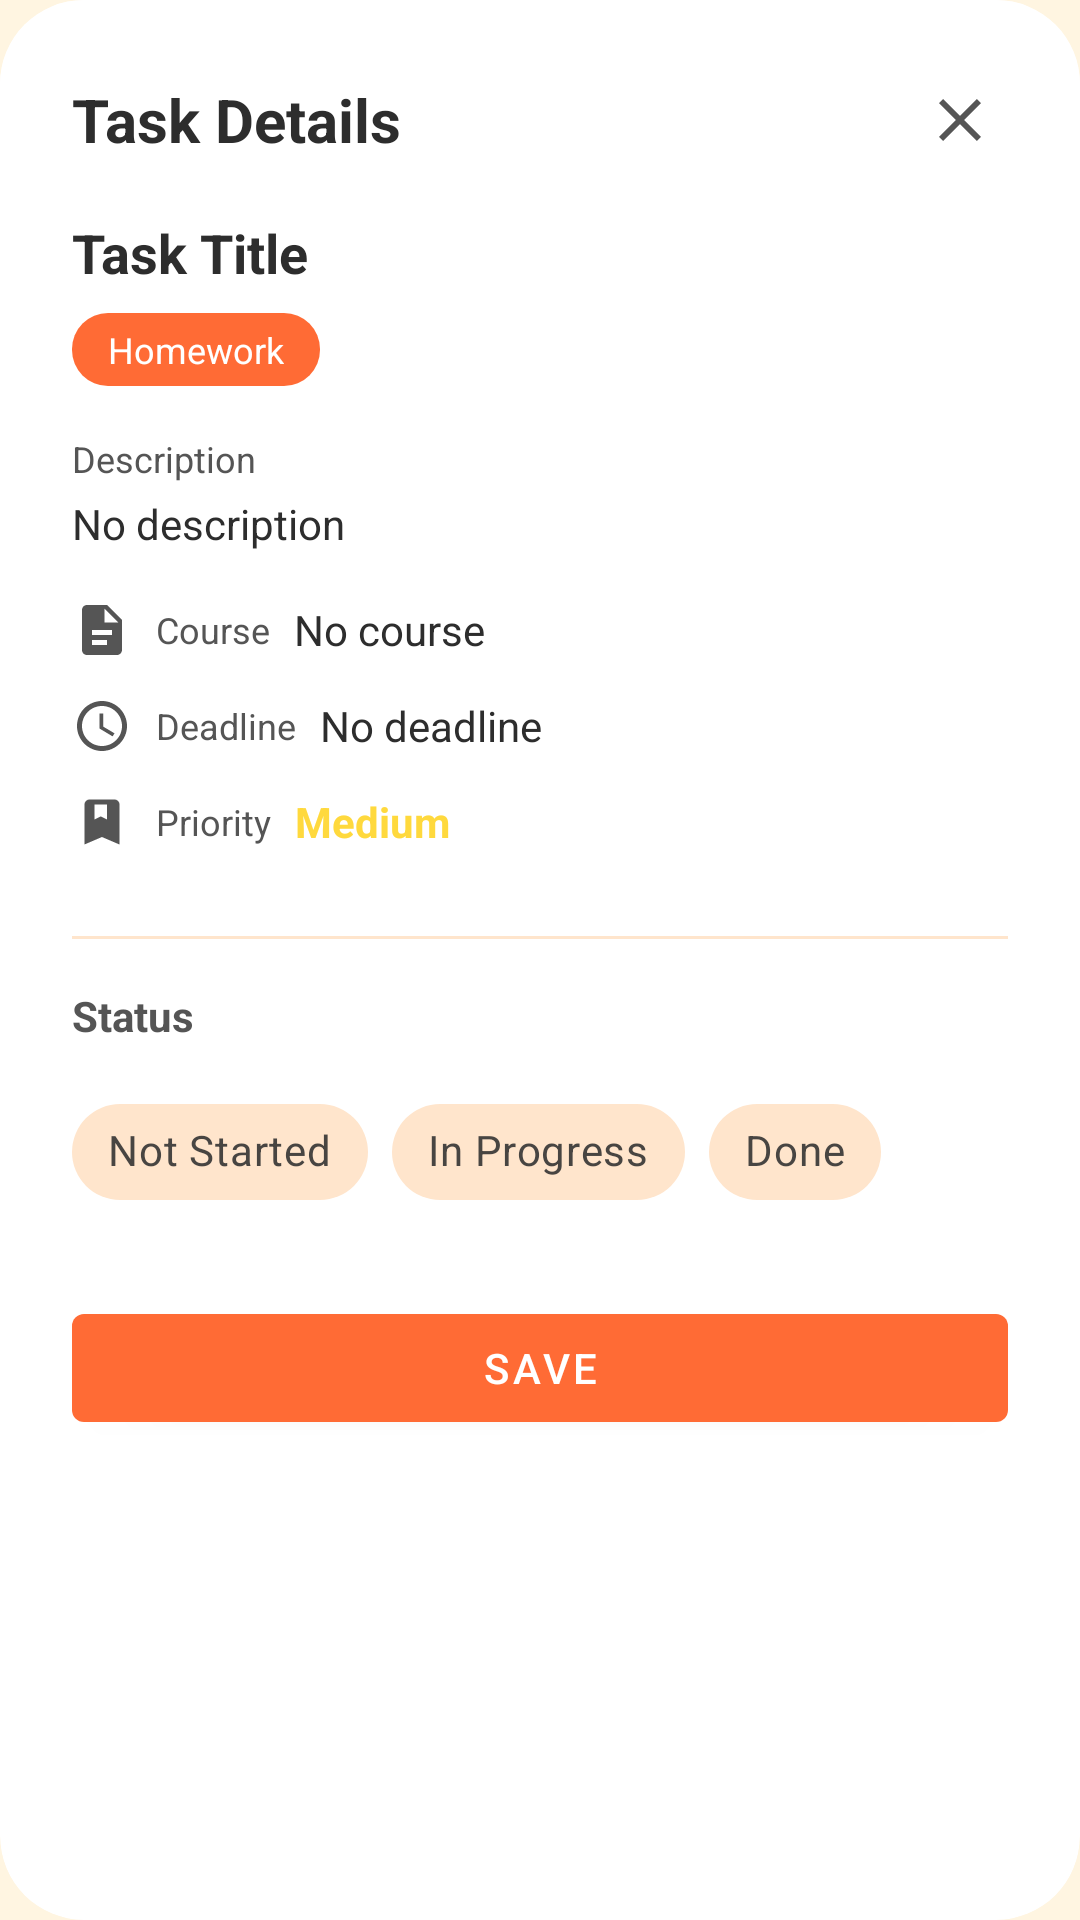

Icons on this 1080px×1920px Android screen, each with its box as (x1, y1, x2, y2):
Close: (939, 99, 981, 141)
time: (77, 701, 127, 751)
